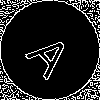A: (25, 25, 82, 81)
